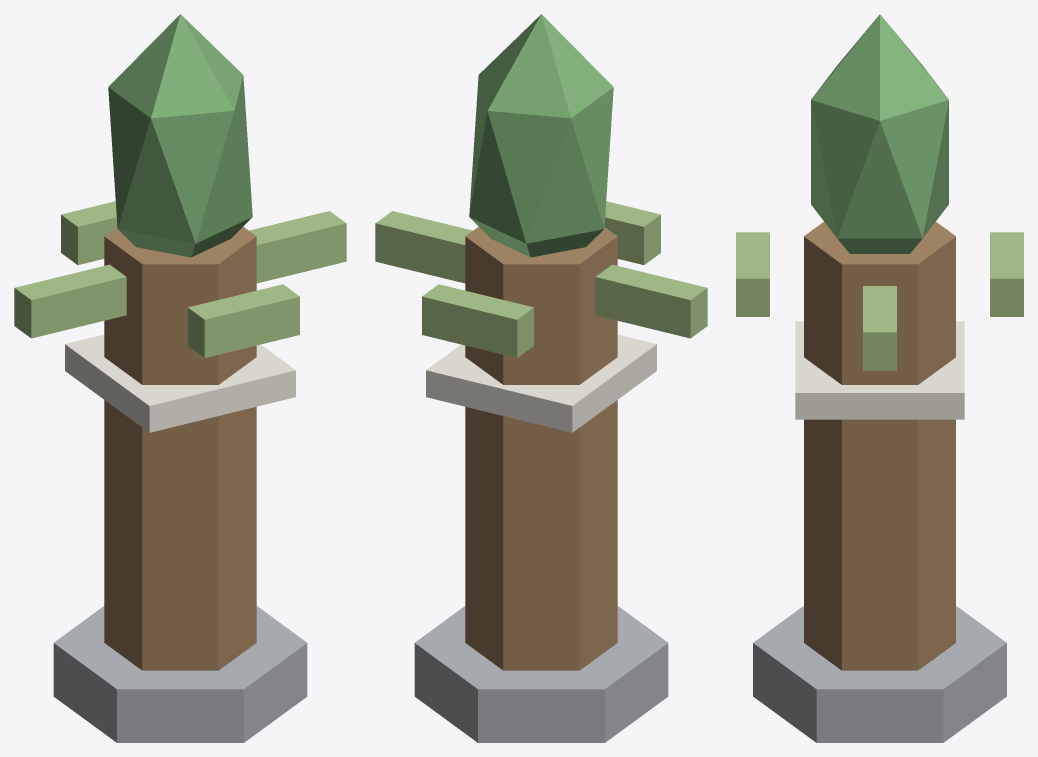
Rendered from healing_totem.glb.
3 views of the same model, side by side, from view 1: azimuth 30°, elevation 25°; view 2: azimuth 150°, elevation 25°; view 3: azimuth 270°, elevation 25° (orthographic).
Visible parts, largest first — view 1: post.004, crystal.004, base.005, band.003, leaf.002, leaf.003, leaf, leaf.001; view 2: post.004, crystal.004, base.005, band.003, leaf.002, leaf.001, leaf, leaf.003; view 3: post.004, crystal.004, base.005, band.003, leaf, leaf.001, leaf.003.
Part boxes in pixels (<box>): post.004: <box>104,226,256,670</box>; crystal.004: <box>108,14,252,257</box>; base.005: <box>53,606,307,742</box>; band.003: <box>65,334,295,432</box>; leaf.002: <box>14,264,126,338</box>; leaf.003: <box>188,284,299,357</box>; leaf: <box>249,211,346,283</box>; leaf.001: <box>61,201,117,264</box>; post.004: <box>465,226,617,670</box>; crystal.004: <box>469,14,613,257</box>; base.005: <box>414,606,668,742</box>; band.003: <box>426,334,656,432</box>; leaf.002: <box>595,264,707,338</box>; leaf.001: <box>422,284,533,357</box>; leaf: <box>375,211,472,283</box>; leaf.003: <box>604,201,660,264</box>; post.004: <box>804,222,955,670</box>; crystal.004: <box>811,14,948,253</box>; base.005: <box>753,606,1006,742</box>; band.003: <box>795,321,964,419</box>; leaf: <box>863,286,896,370</box>; leaf.001: <box>990,232,1023,316</box>; leaf.003: <box>736,232,769,316</box>.
Bounding box in the file's own units: 0.86 × 1.78 × 0.68.
